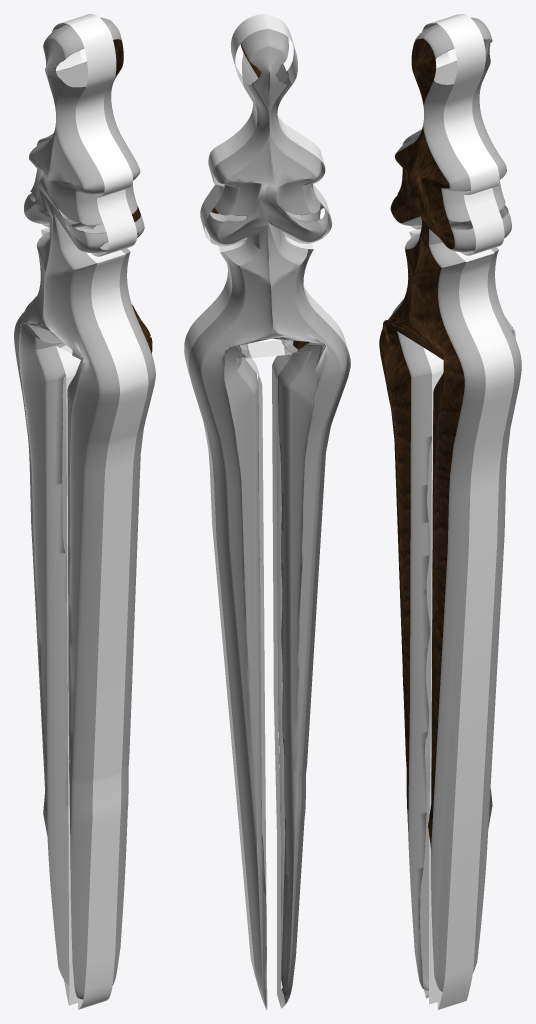
File: boobs2.obj
The picture shows the model from 3 angles, left to right: view 1: azimuth 90°, elevation 25°; view 2: azimuth 150°, elevation 25°; view 3: azimuth 270°, elevation 25°; orthographic projection.
Visible parts, largest first — view 1: Layer 1; view 2: Layer 1; view 3: Layer 1.
Boxes of the visible parts, <box> form: Layer 1: <box>14,14,155,1009</box>; Layer 1: <box>184,14,350,1009</box>; Layer 1: <box>379,14,521,1009</box>.
Bounding box in the file's own units: 3.2 × 22.19 × 2.91.
